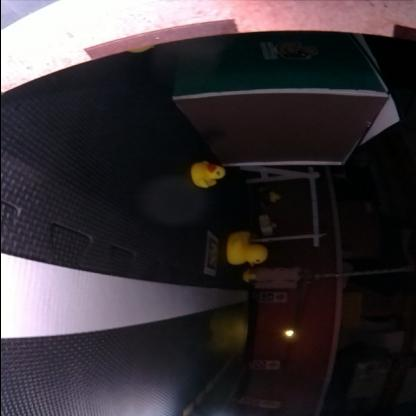Duckie: (228, 232, 265, 266), (192, 161, 224, 187), (270, 192, 282, 202), (245, 272, 256, 282)
QR code: (204, 230, 219, 276)
Traffic light: (282, 330, 297, 338)
